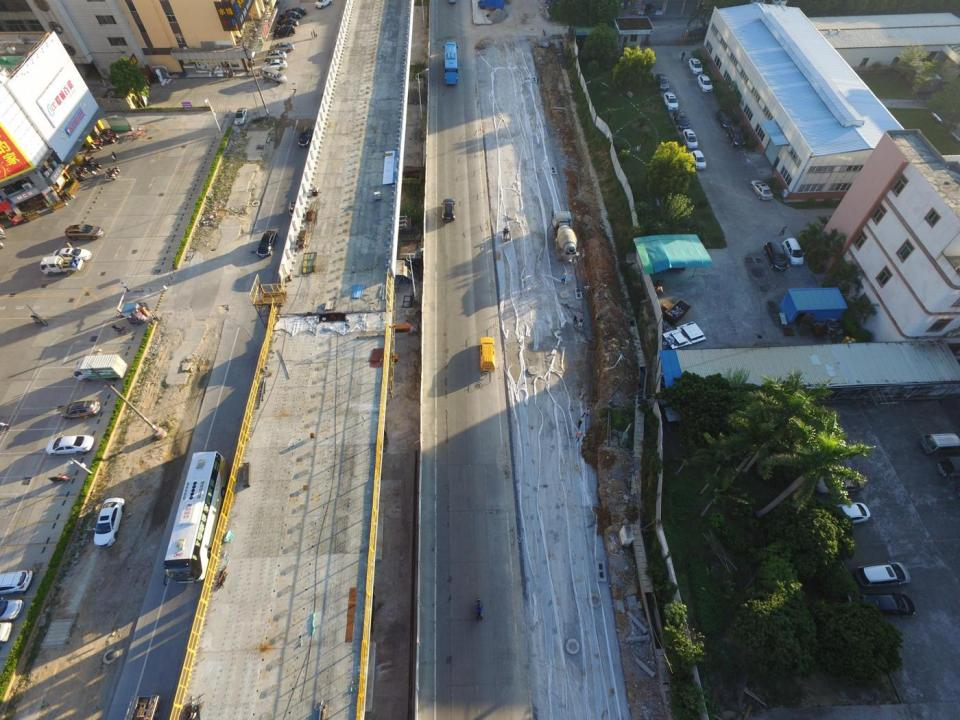bus: (161, 450, 231, 587), (442, 40, 460, 85)
car: (846, 592, 917, 621), (851, 560, 909, 589), (92, 496, 124, 548), (823, 502, 871, 528), (814, 473, 864, 497), (45, 434, 94, 457), (0, 570, 34, 594), (59, 400, 100, 419), (65, 224, 104, 242), (256, 229, 278, 258), (0, 597, 24, 622), (479, 336, 495, 372), (52, 247, 91, 260), (750, 179, 773, 200), (725, 125, 744, 147), (716, 108, 734, 128), (441, 198, 456, 222), (690, 150, 707, 171), (298, 125, 314, 147), (672, 110, 689, 130), (662, 91, 679, 111), (268, 41, 294, 54), (682, 128, 698, 149), (272, 23, 296, 37), (697, 72, 713, 92), (260, 58, 286, 70), (654, 74, 671, 92), (233, 107, 249, 125), (688, 58, 704, 74), (263, 49, 286, 60), (278, 11, 300, 21), (285, 6, 307, 16), (276, 18, 299, 27)
truck: (72, 354, 128, 382), (552, 210, 580, 262), (40, 255, 84, 274)
van: (917, 433, 960, 454), (764, 240, 788, 271), (782, 238, 804, 265), (261, 66, 286, 84)
